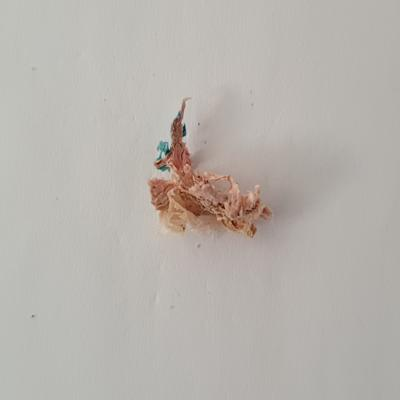plastic: (142, 91, 287, 241)
